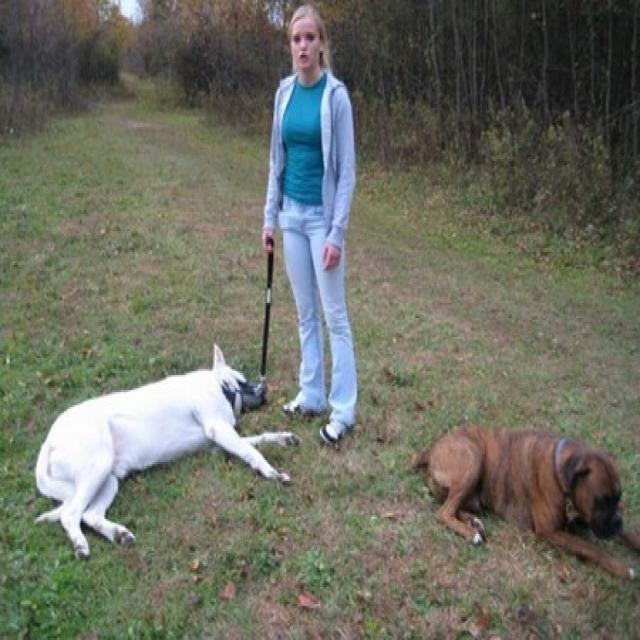laying down: (29, 339, 303, 564), (409, 419, 640, 582)
